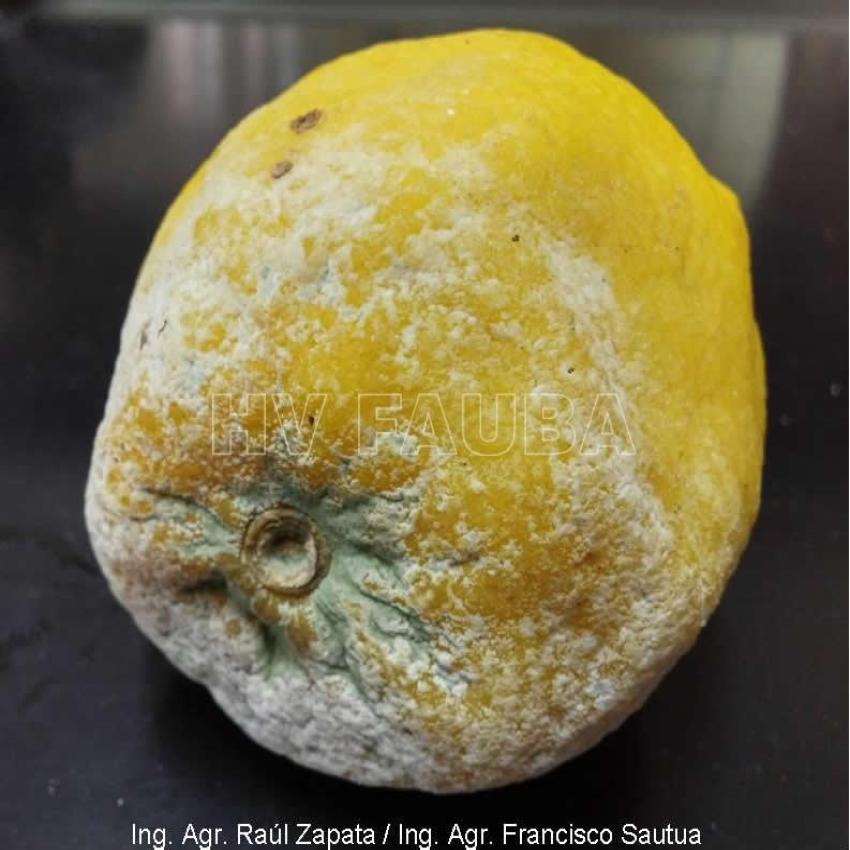Mal estado: (67, 13, 791, 810)
